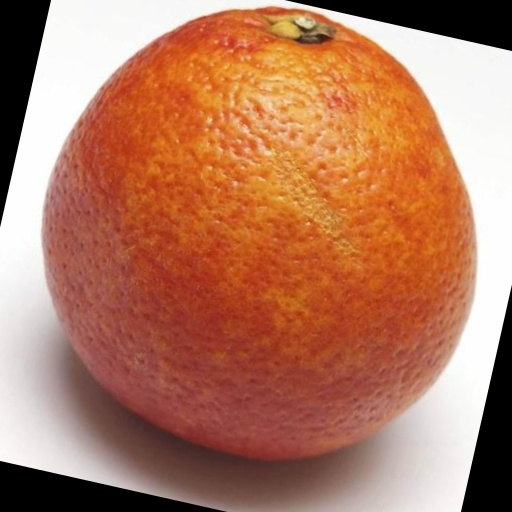fruit: (401, 176, 512, 503)
